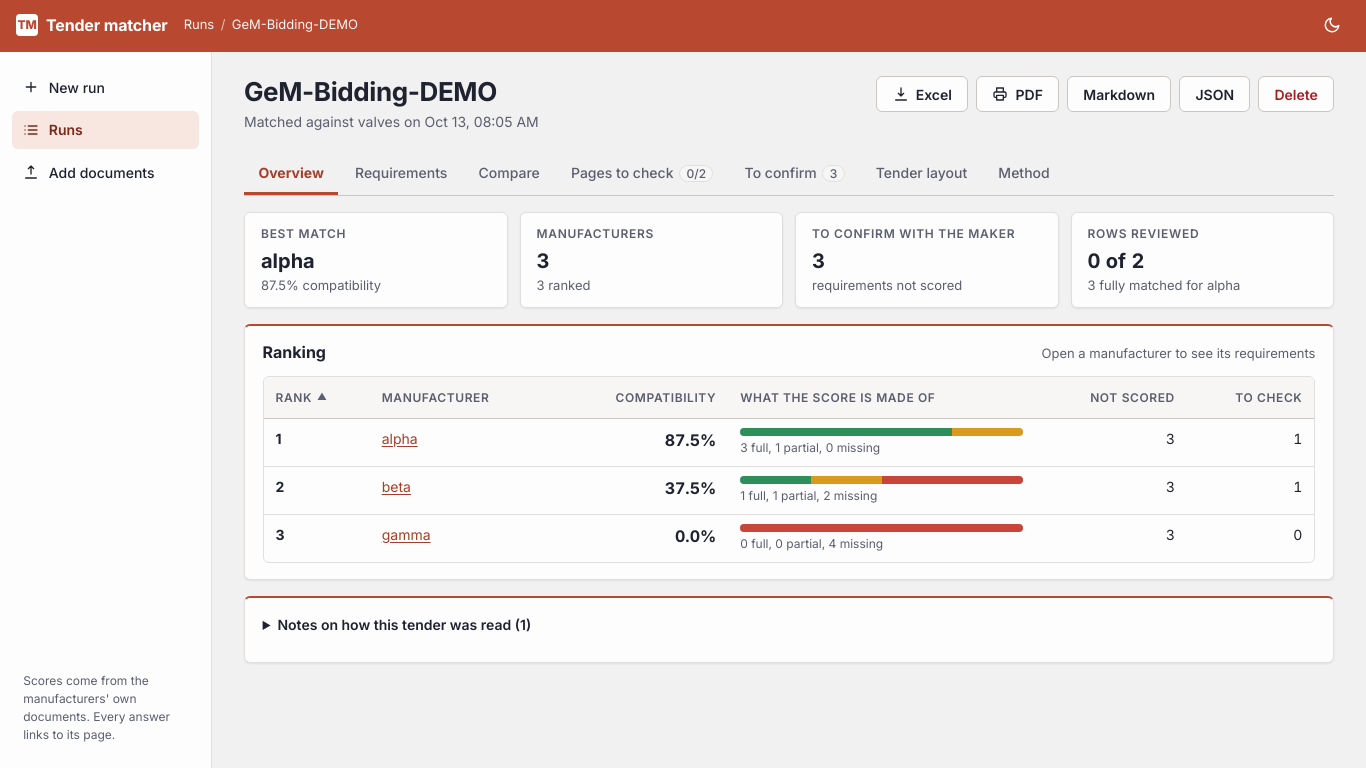
Test: the tender layout tab › is only fetched when the tab is opened, and says plainly when the reading is not saved
Expected: the heading "GeM-Bidding-DEMO" is shown, left=244, top=76, right=539, bottom=107
Click the tab "Tender layout" at coordinates (922, 174), box left=861, top=152, right=982, bottom=195
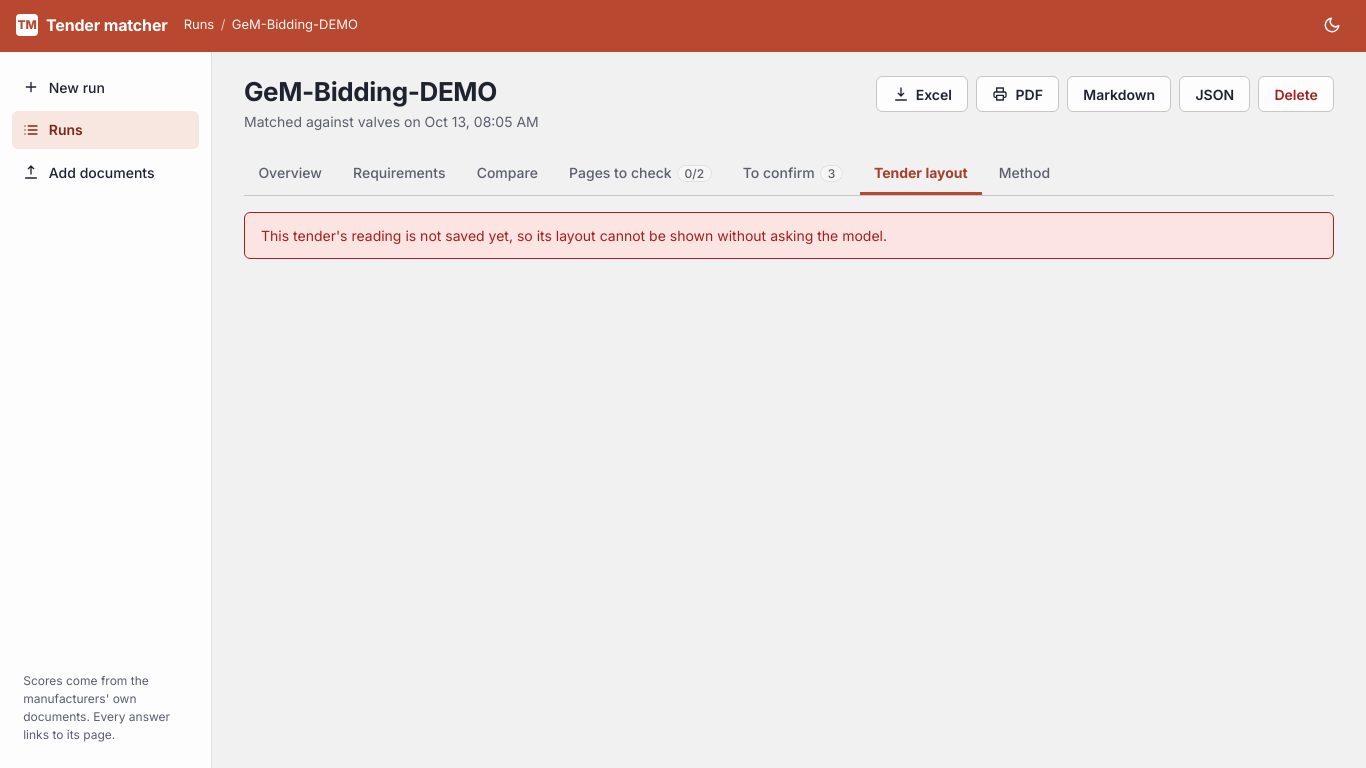
Expected: the message shows "not saved yet", left=261, top=227, right=887, bottom=244
